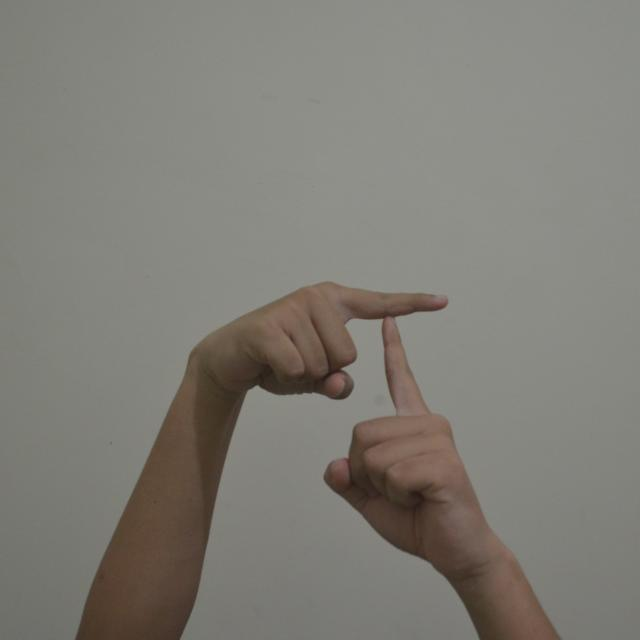T: (159, 274, 532, 594)
